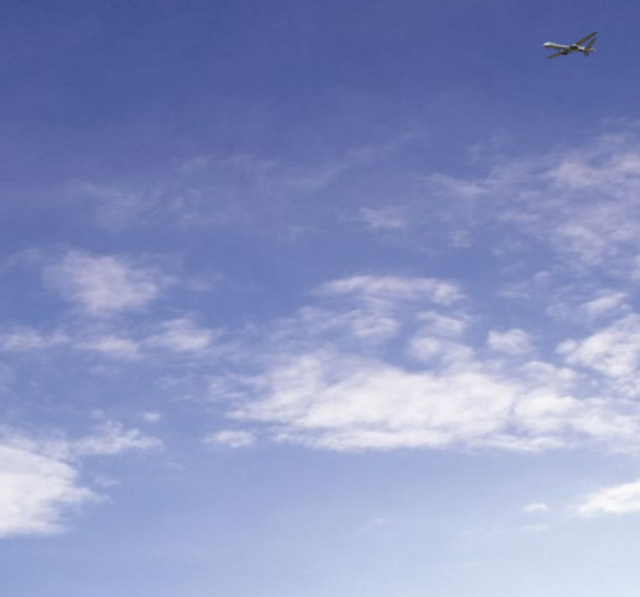military drone: (541, 31, 598, 59)
